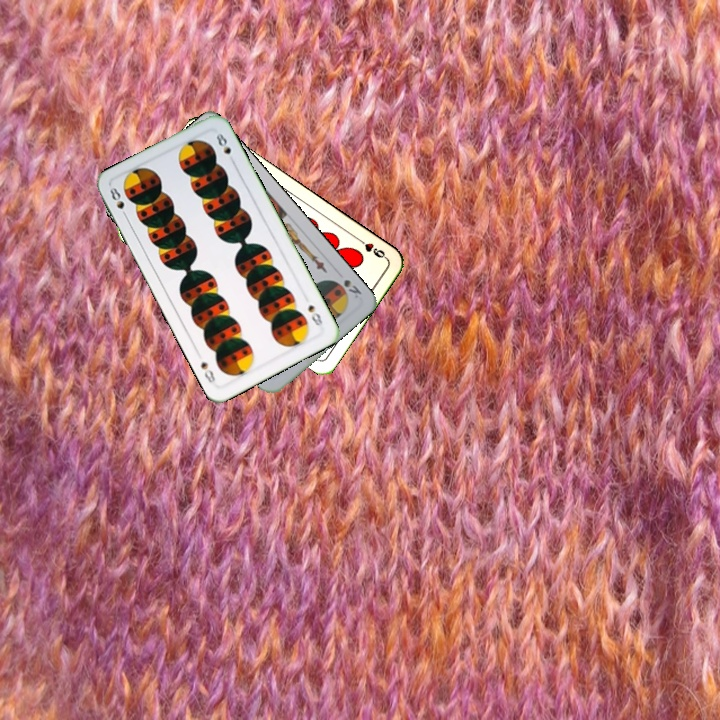H9: (354, 235, 390, 262)
S8: (106, 183, 131, 221), (304, 300, 325, 328)
SK: (340, 275, 364, 301)
